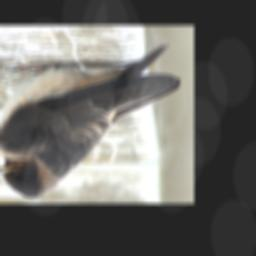Swallow: (0, 42, 181, 200)
